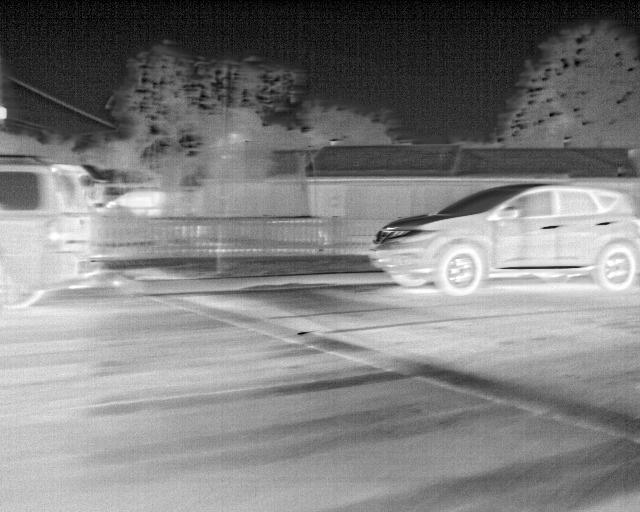car: (368, 181, 639, 299), (0, 157, 100, 313)
